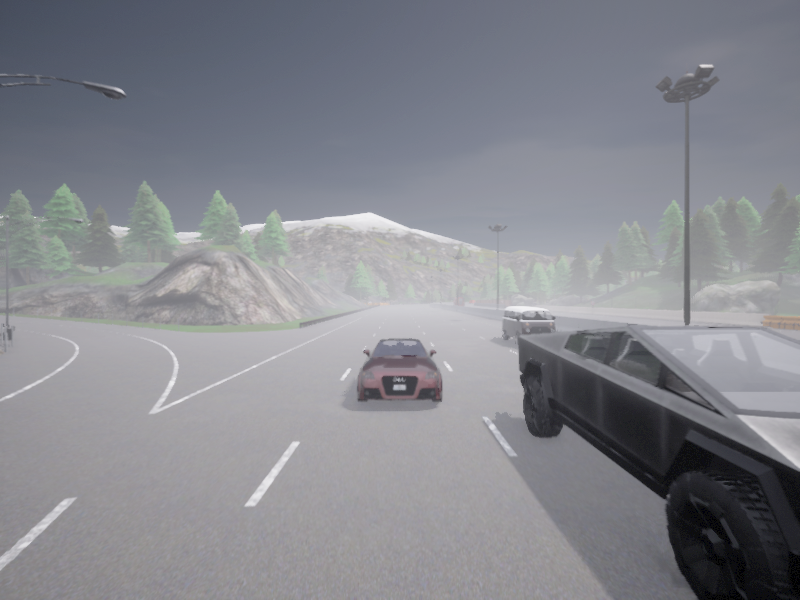vehicle: (518, 326, 799, 599), (357, 337, 442, 401), (501, 306, 555, 344), (453, 296, 464, 305), (470, 300, 475, 303)
